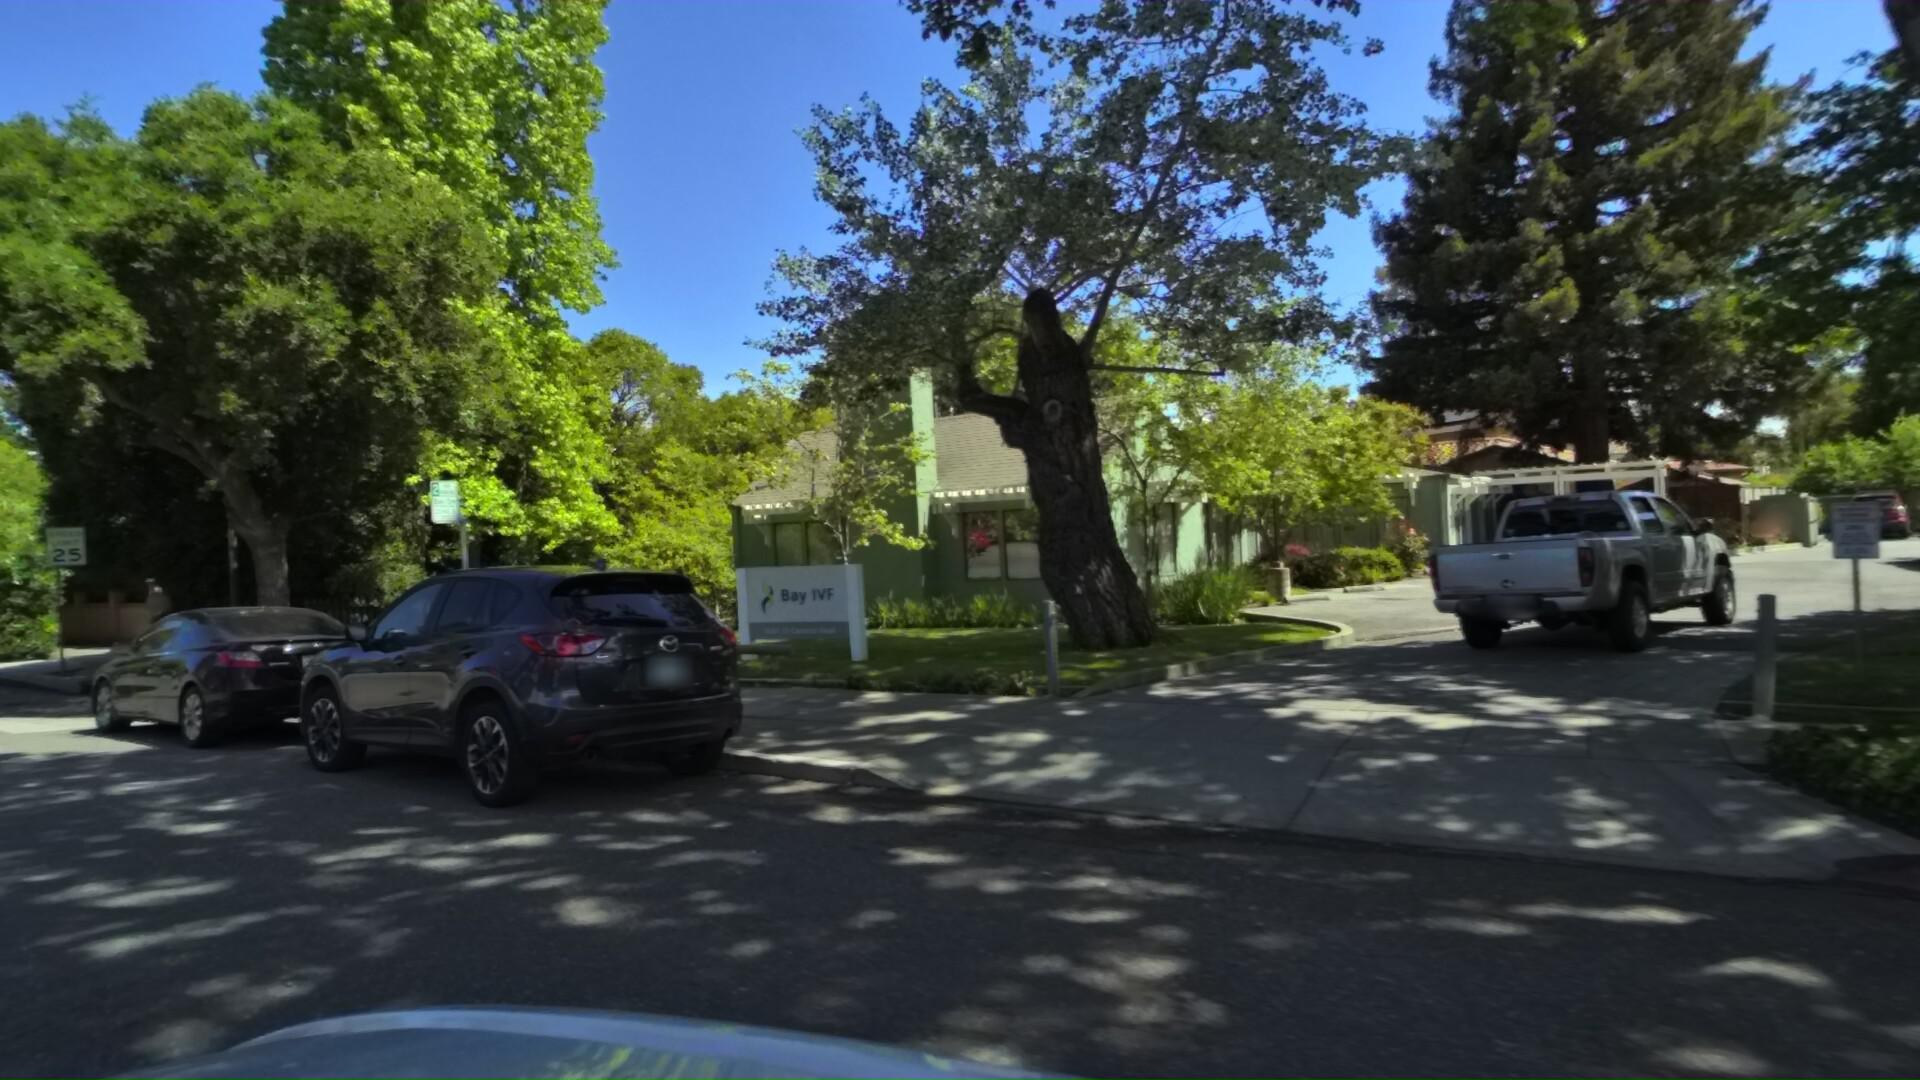car: (276, 531, 833, 855), (71, 587, 444, 782), (1458, 462, 1793, 674)
